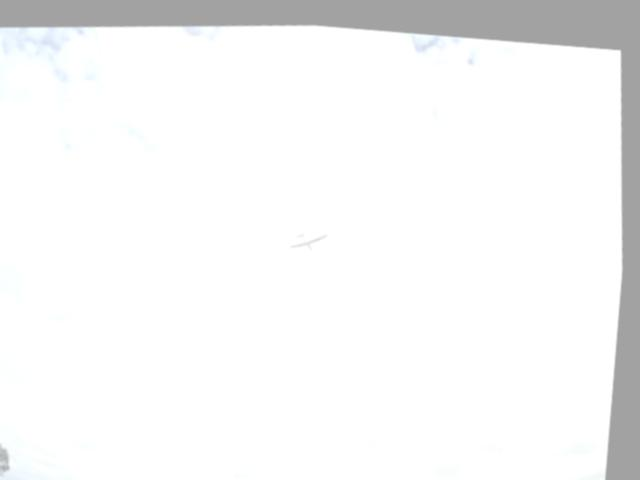uav: (283, 215, 339, 253)
